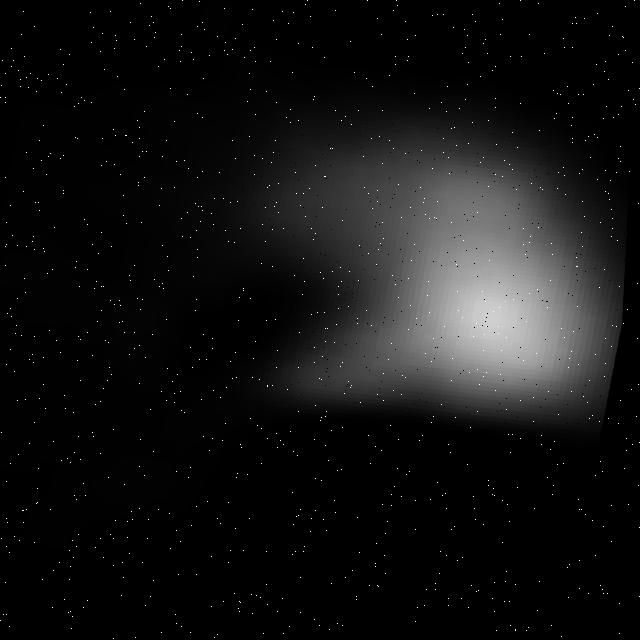person: (159, 50, 638, 470)
